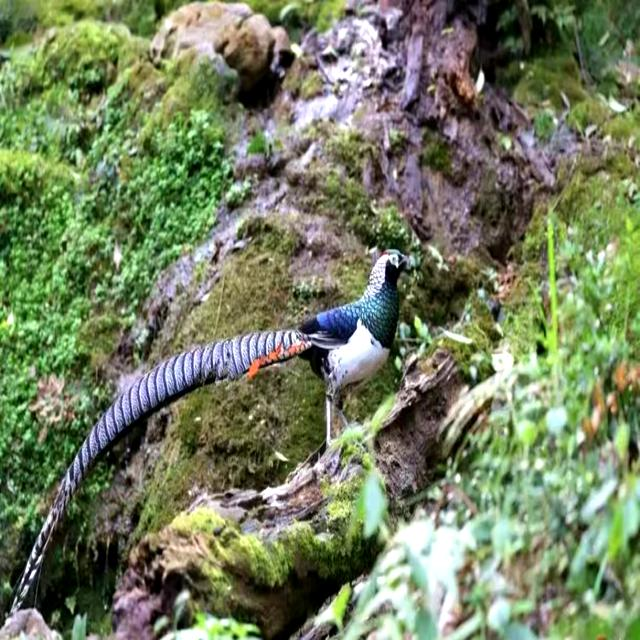Chrysolophus amherstiae: (12, 330, 312, 609)
